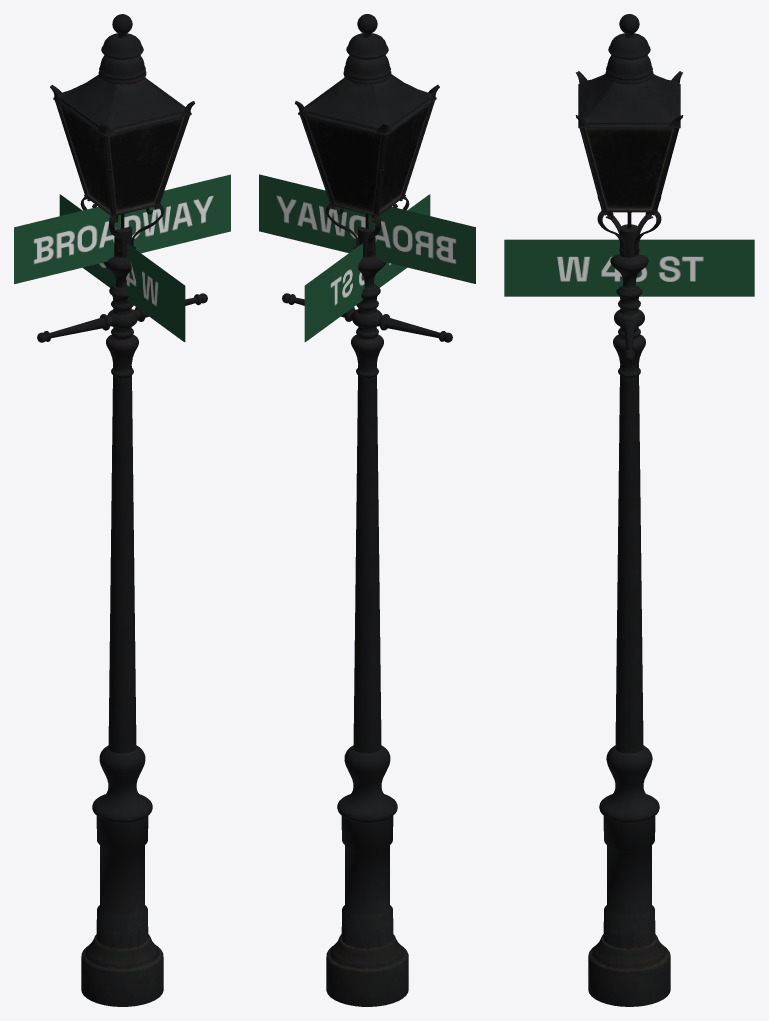
Rendered from nyb_sweet_lamp.glb.
The picture shows the model from 3 angles, left to right: view 1: azimuth 30°, elevation 25°; view 2: azimuth 150°, elevation 25°; view 3: azimuth 270°, elevation 25°; orthographic projection.
Visible parts, largest first — view 1: street_lamp_01, add_lbl_0353461479.png, add_lbl_44130cefd3.png; view 2: street_lamp_01, add_lbl_0353461479.png, add_lbl_44130cefd3.png; view 3: street_lamp_01, add_lbl_44130cefd3.png.
Part boxes in pixels (left/top/right/bottom): street_lamp_01: left=37, top=14, right=207, bottom=1006; add_lbl_0353461479.png: left=14, top=174, right=230, bottom=283; add_lbl_44130cefd3.png: left=59, top=194, right=185, bottom=341; street_lamp_01: left=282, top=14, right=452, bottom=1006; add_lbl_0353461479.png: left=259, top=174, right=475, bottom=283; add_lbl_44130cefd3.png: left=304, top=194, right=430, bottom=341; street_lamp_01: left=575, top=14, right=683, bottom=1006; add_lbl_44130cefd3.png: left=504, top=239, right=754, bottom=296.
Bounding box in the file's own units: 0.9 × 3.87 × 0.9.
Materials: 5 (5 with a texture image).
